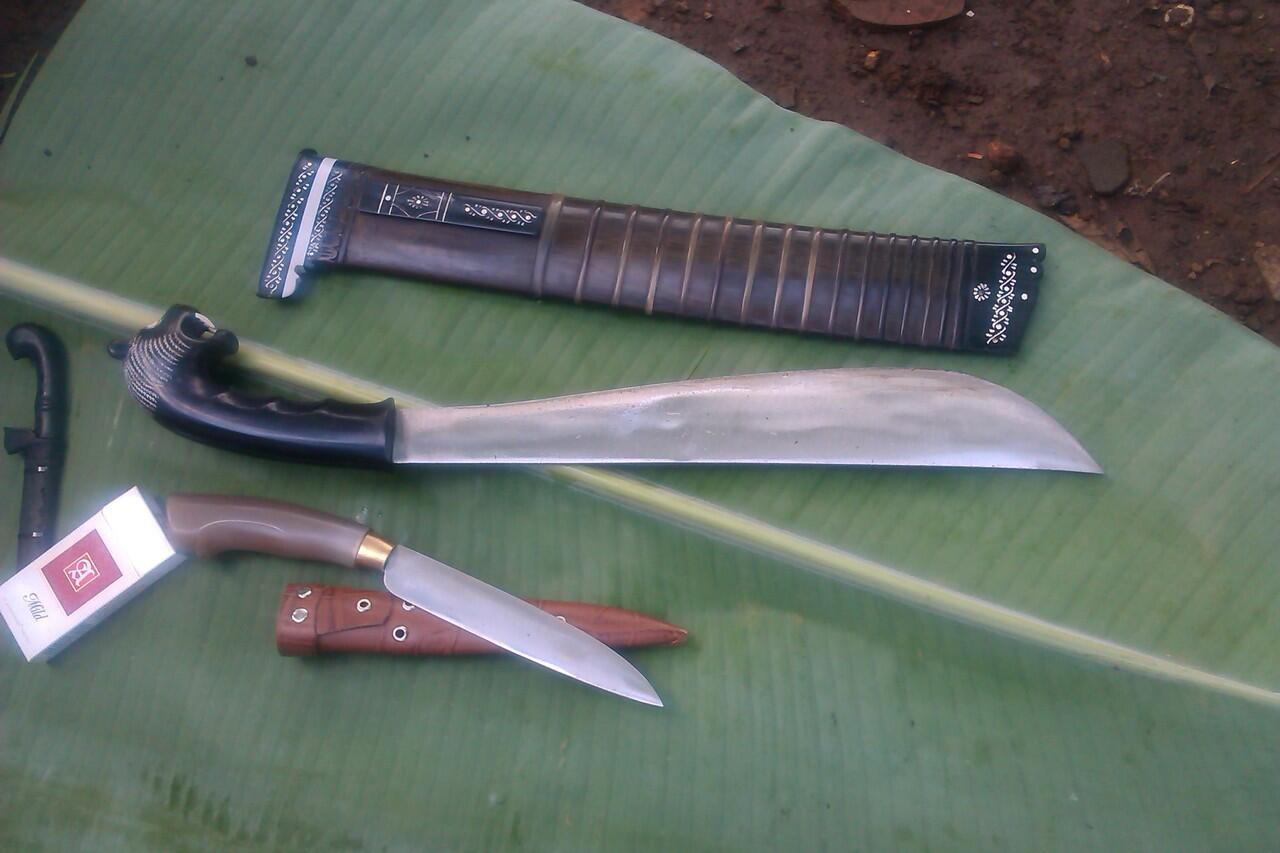faca: (112, 306, 1101, 471), (165, 495, 662, 705)
